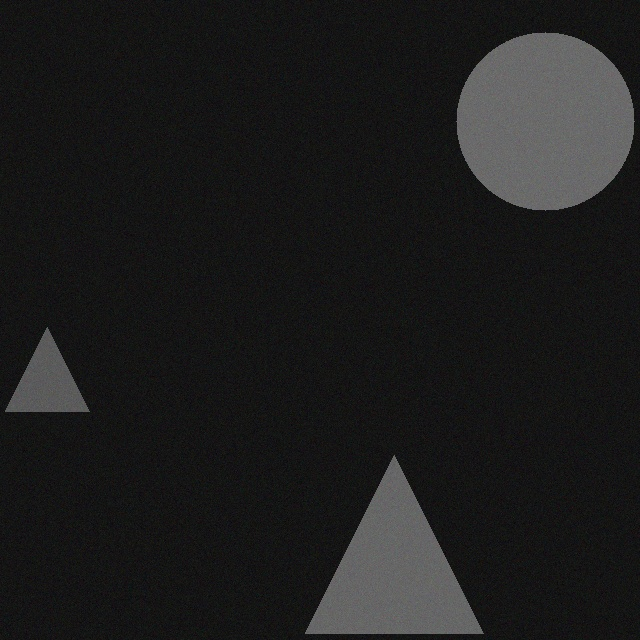circle: (455, 23, 633, 201)
triangle: (304, 446, 482, 624), (4, 318, 88, 402)
